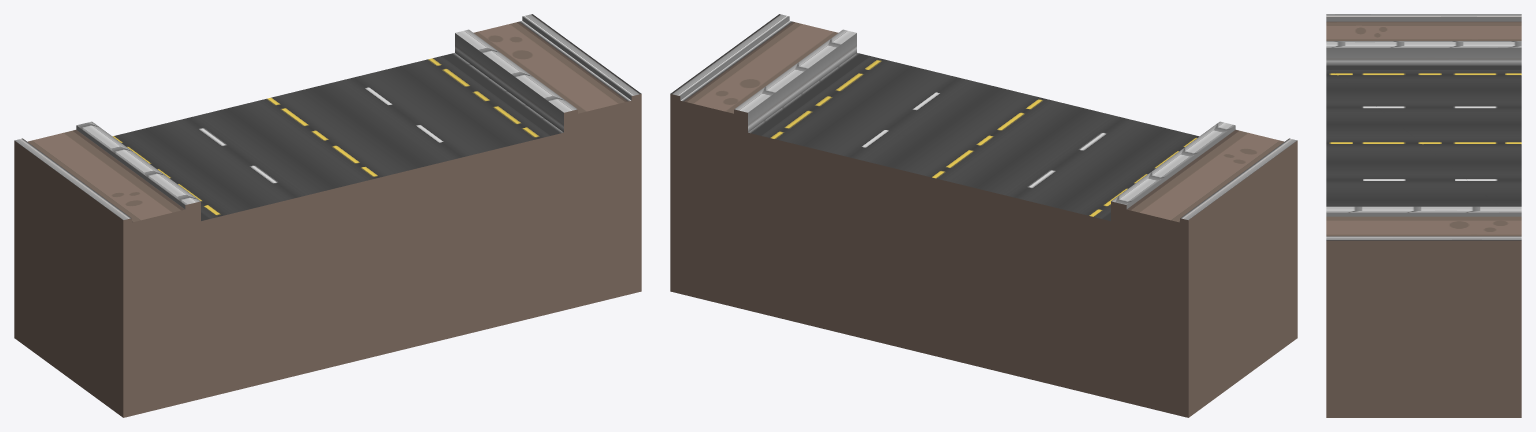
The model's file is street.fbx.
3 renders of one model, left to right at view 1: azimuth 30°, elevation 25°; view 2: azimuth 150°, elevation 25°; view 3: azimuth 270°, elevation 25°, orthographic. The views are drawn at different scales.
Parts seen in each view (by area): view 1: pCube7; view 2: pCube7; view 3: pCube7.
Boxes of the visible parts, x1,y1,x2,y2 form: pCube7: [14, 14, 641, 417]; pCube7: [670, 14, 1297, 417]; pCube7: [1326, 14, 1521, 417].
Size of the model in its own units: 8 by 2.92 by 2.92.
Materials: 2 (1 with a texture image).
